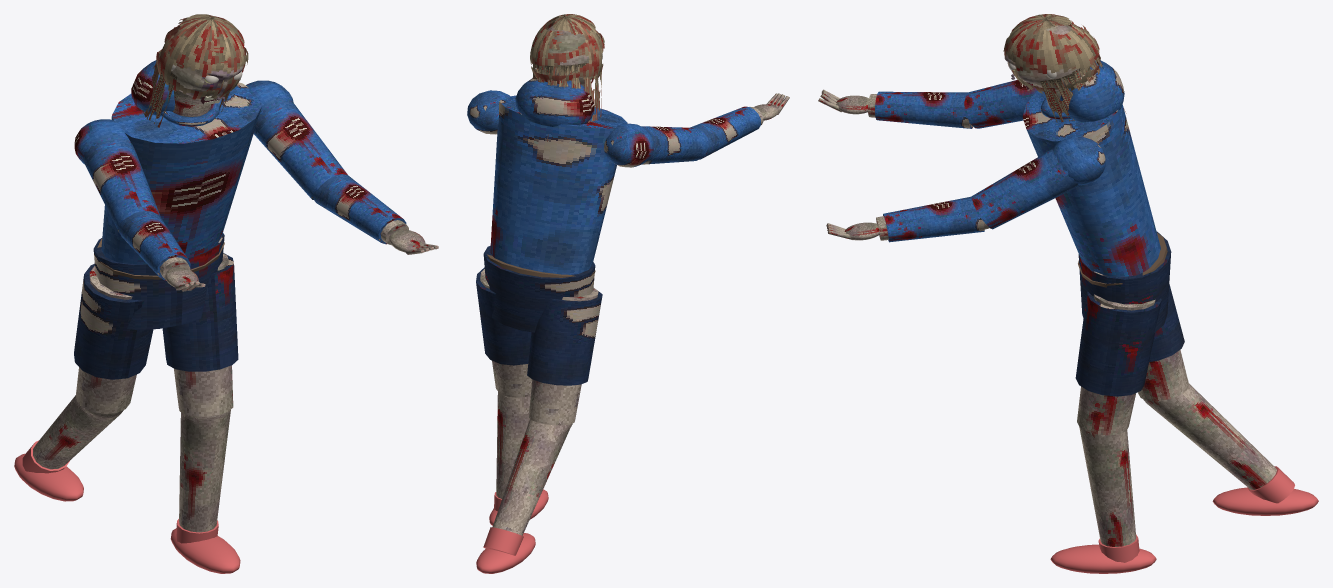
File: Zombie_031.glb
3 renders of one model, left to right at view 1: azimuth 30°, elevation 25°; view 2: azimuth 150°, elevation 25°; view 3: azimuth 270°, elevation 25°, orthographic. The views are drawn at different scales.
Parts seen in each view (by area): view 1: Zombie_031, object 12, object 45, object 4, object 46, object 18, object 13, object 56; view 2: Zombie_031, object 46, object 4, object 45, object 18; view 3: Zombie_031, object 12, object 4, object 46, object 45, object 18, object 47.
Part boxes in pixels (bbox=[...]): Zombie_031: bbox=[14, 60, 347, 573]; object 12: bbox=[312, 174, 406, 244]; object 45: bbox=[164, 14, 248, 74]; object 4: bbox=[118, 211, 190, 280]; object 46: bbox=[156, 14, 245, 99]; object 18: bbox=[171, 31, 243, 99]; object 13: bbox=[389, 229, 425, 252]; object 56: bbox=[146, 72, 177, 127]; Zombie_031: bbox=[467, 78, 708, 573]; object 46: bbox=[530, 18, 603, 83]; object 4: bbox=[690, 106, 760, 159]; object 45: bbox=[536, 14, 604, 62]; object 18: bbox=[543, 25, 602, 84]; Zombie_031: bbox=[964, 60, 1318, 573]; object 12: bbox=[883, 196, 984, 242]; object 4: bbox=[875, 91, 972, 128]; object 46: bbox=[1009, 15, 1100, 93]; object 45: bbox=[1003, 14, 1084, 72]; object 18: bbox=[1004, 23, 1083, 90]; object 47: bbox=[1040, 78, 1074, 122].
Bounding box in the file's own units: 0.7954 × 1.68 × 1.42.
Materials: 16 (6 with a texture image).
